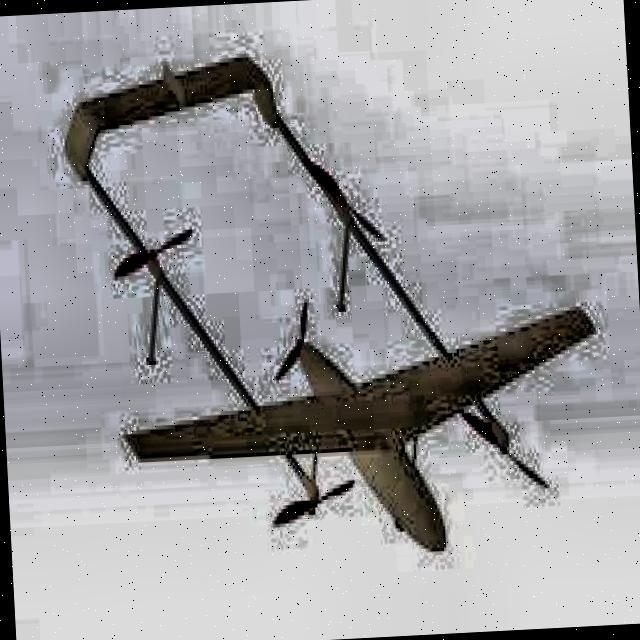iha: (51, 19, 624, 577)
